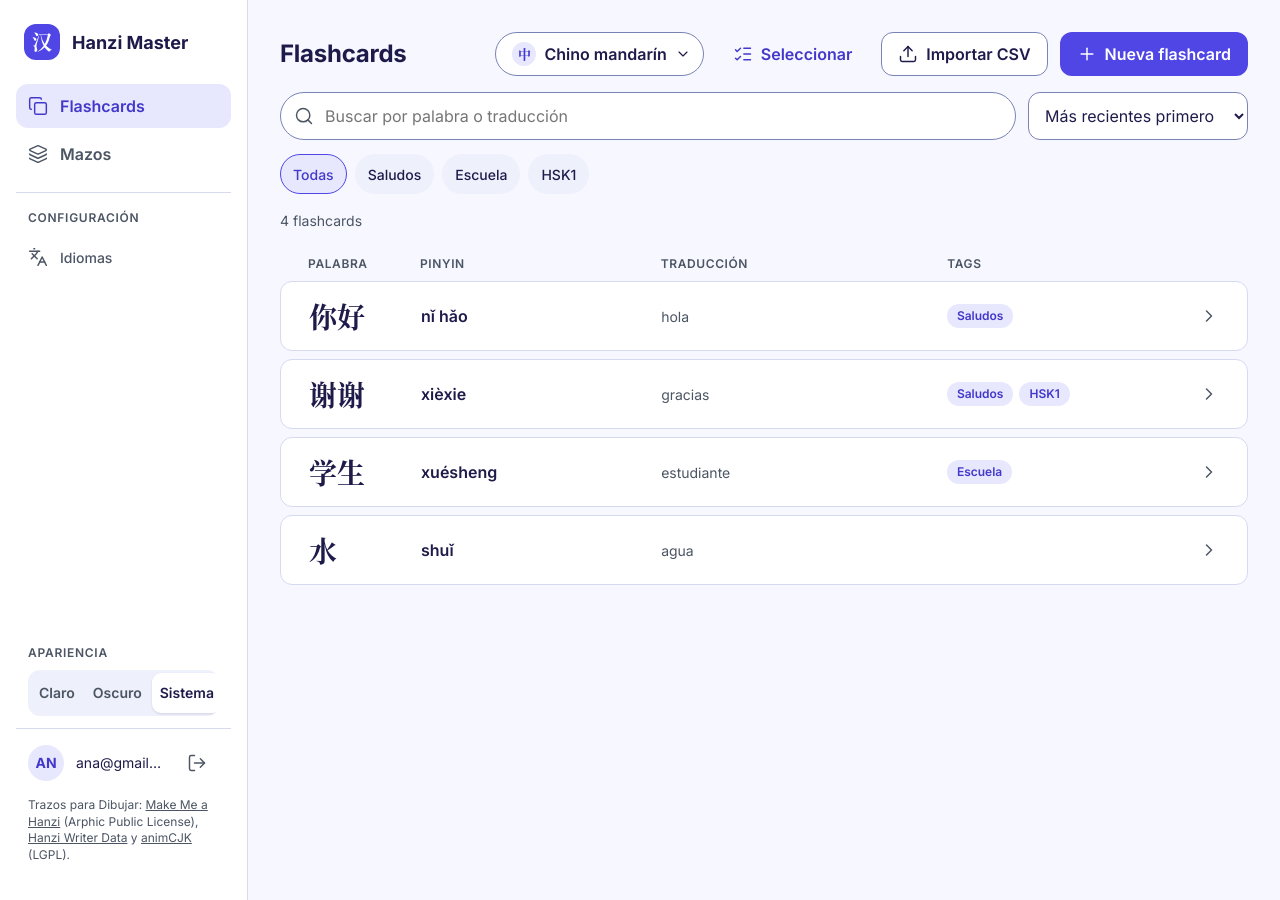
Test case: F02 · Selección múltiple › F02-5 Cancelar limpia la selección y restaura las filas normales
Expected: the link "你好 Saludos" is shown, [280,281,1248,351]
Click the button "Seleccionar": (792, 54) [716,32,869,76]
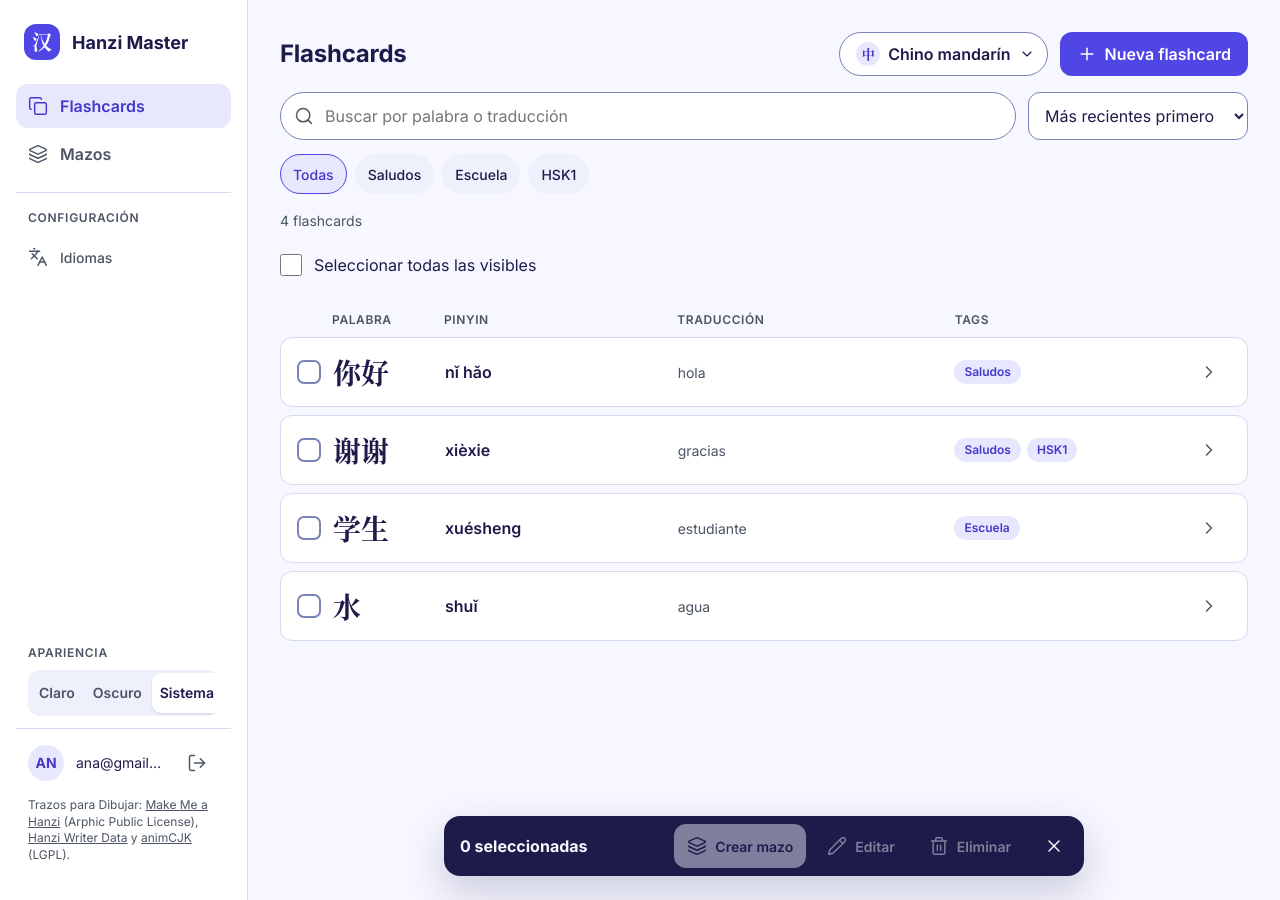
Click the checkbox labelled "你好 Saludos": (361, 372) [280,337,1248,407]
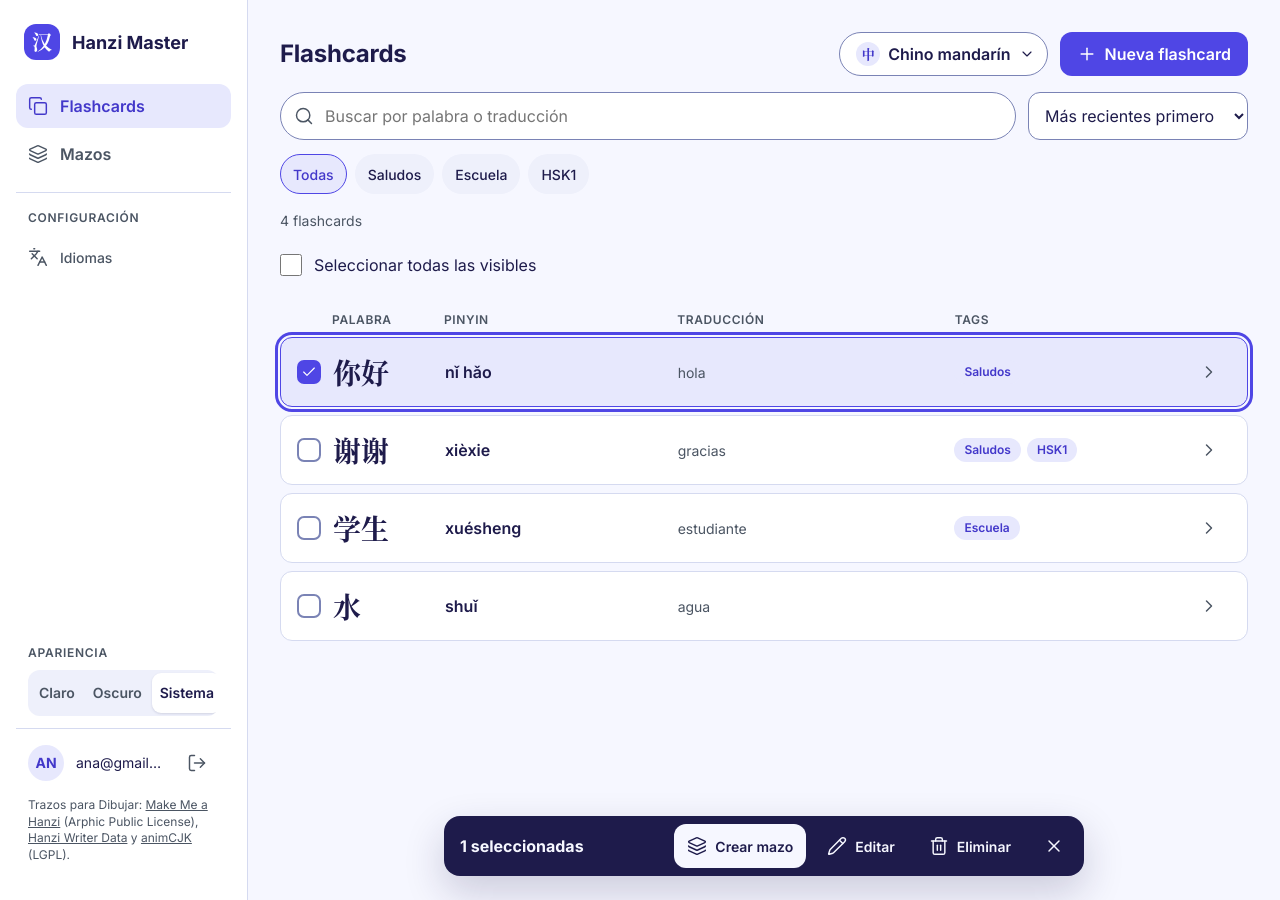
Click the button named "Cancelar selección": (1054, 846) [1032,824,1076,868]
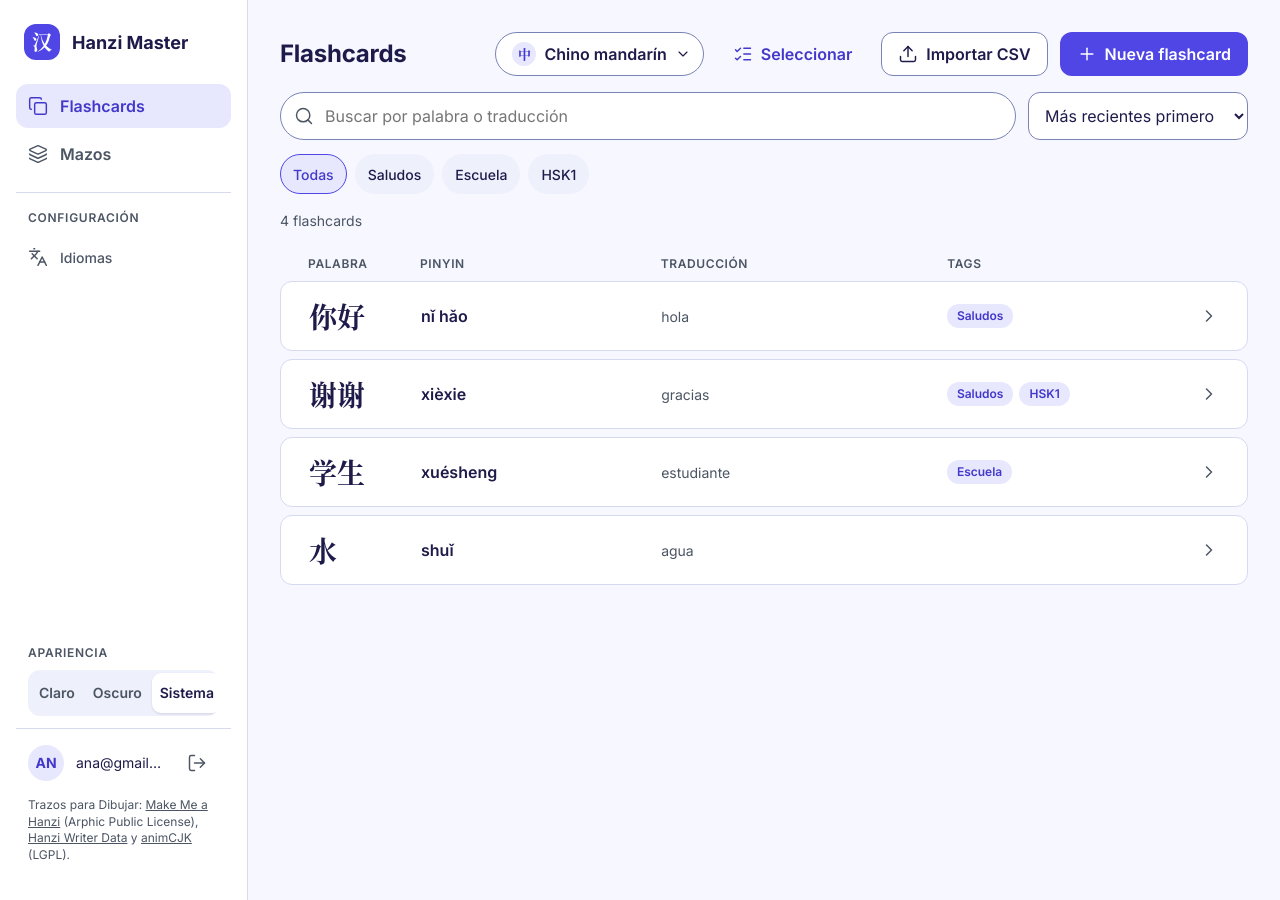
Expected: the link "你好 Saludos" is shown, [280,281,1248,351]
Click the button "Seleccionar": (792, 54) [716,32,869,76]
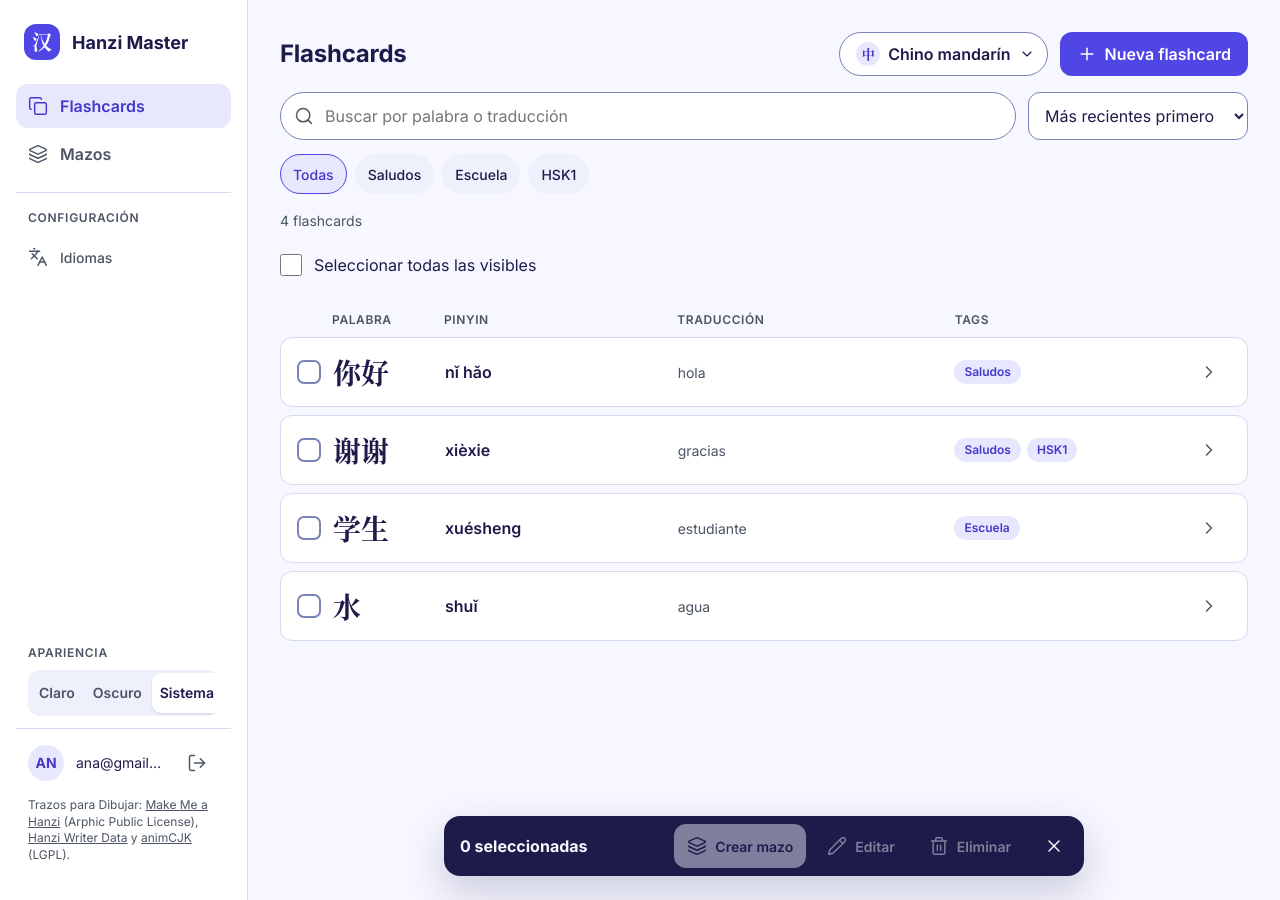
Expected: the message reads "0 seleccionadas", [460,836,588,856]
